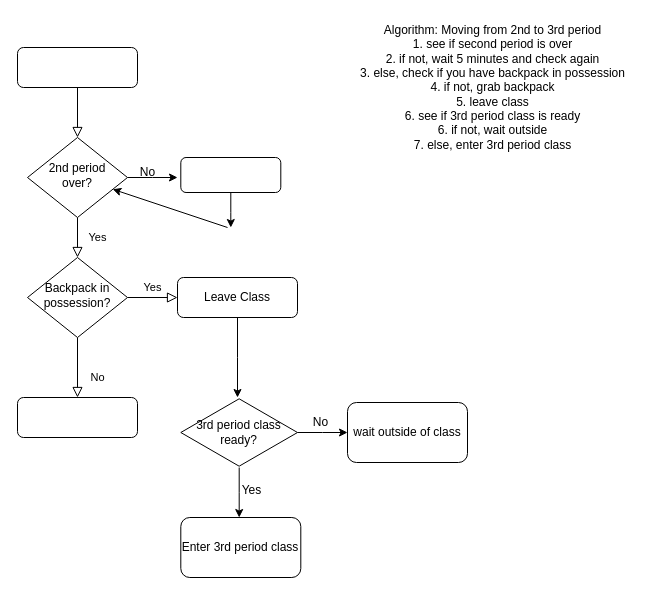
Some shapes in this 655 by 595 pixel diagram are drawn without their labels. Each missing label, with the centre of its shape:
"grab backpack" goes at [77,417].
"Move from 2nd to 3rd period" goes at [77,67].
"Wait 5 minutes, check again" goes at [230,174].
